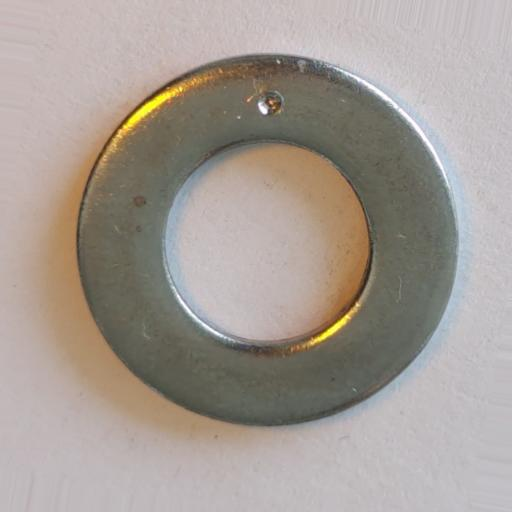circular_cavity: (256, 91, 285, 117)
